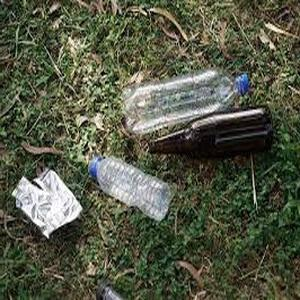Plastic: (119, 68, 250, 133), (86, 153, 169, 226)
